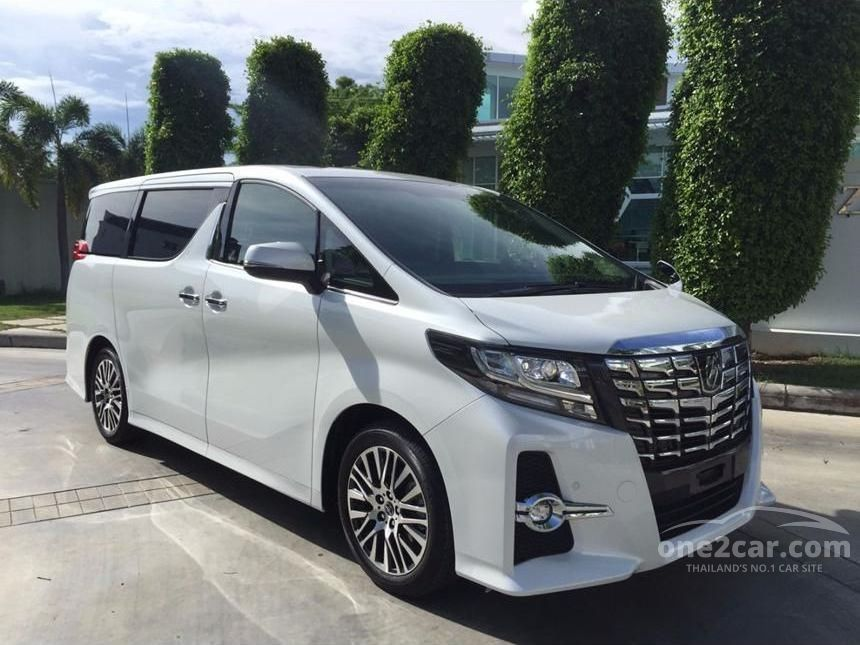van: (61, 169, 777, 601)
